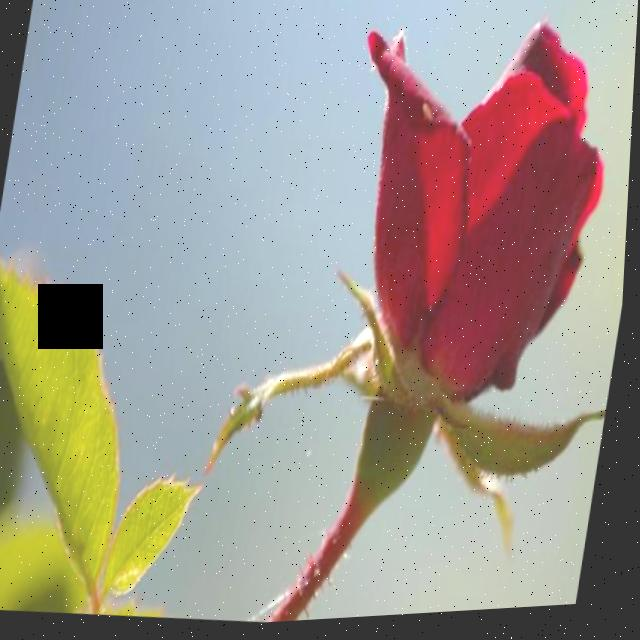rose: (280, 4, 639, 531)
